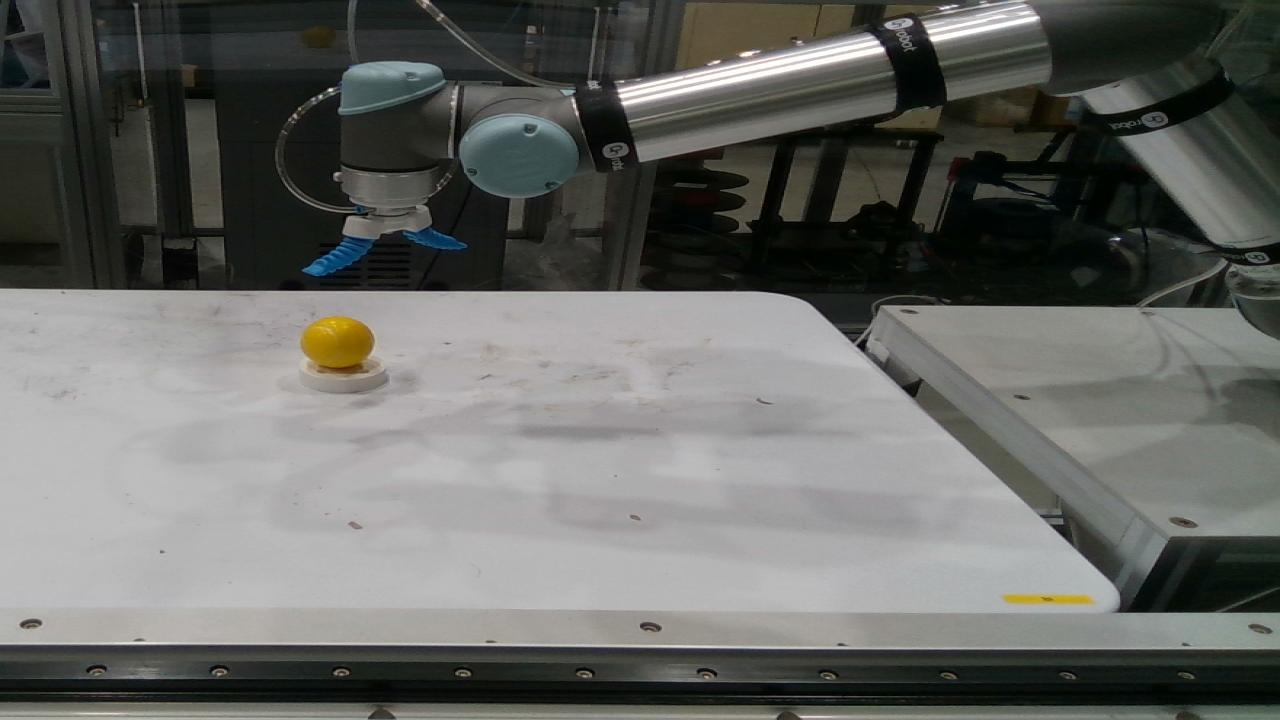UR5: (336, 0, 1279, 341)
gripper_left: (403, 225, 470, 250)
gripper_right: (303, 234, 374, 276)
target: (299, 350, 387, 393), (301, 316, 375, 367)
